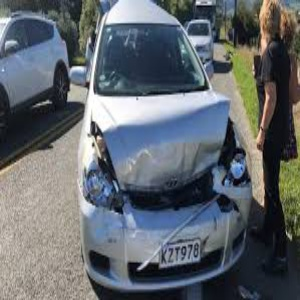bonnet: (101, 96, 227, 193)
head_lights: (208, 146, 253, 196)
